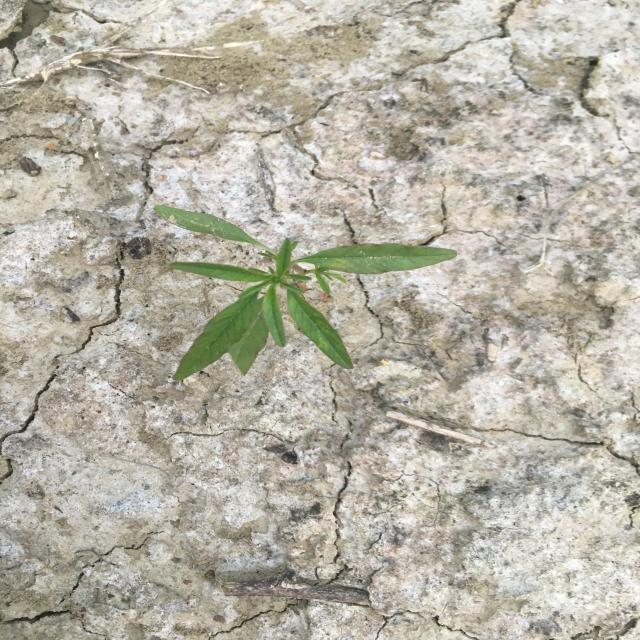Waterhemp: (152, 203, 458, 384)
